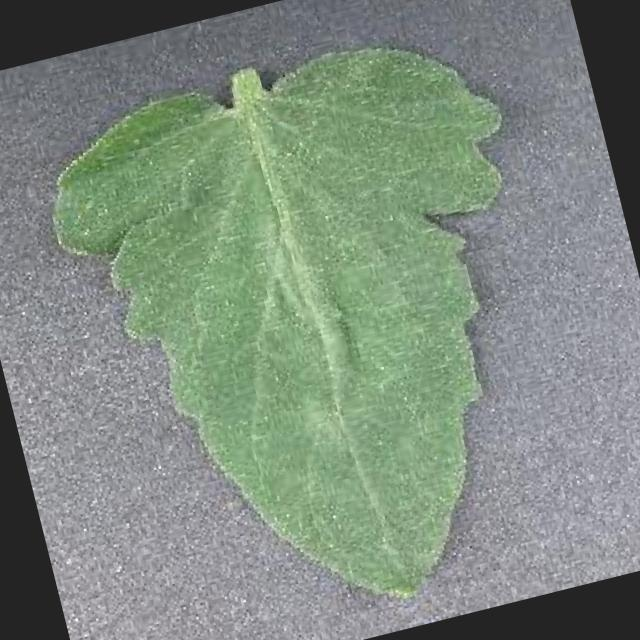healthy: (53, 51, 498, 590)
